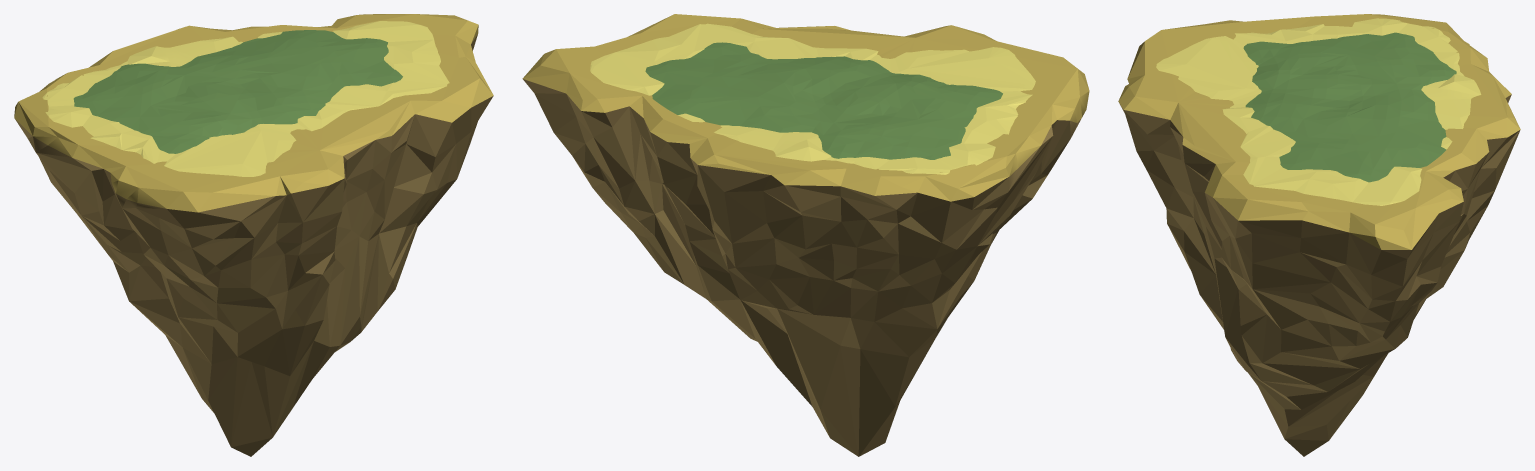
File: Treasure_Island.fbx
3 views of the same model, side by side, from view 1: azimuth 30°, elevation 25°; view 2: azimuth 150°, elevation 25°; view 3: azimuth 270°, elevation 25° (orthographic). The views are drawn at different scales.
Visible parts, largest first — view 1: TIsland_Body, TIsland_Grass, TIsland_Sand; view 2: TIsland_Body, TIsland_Grass, TIsland_Sand; view 3: TIsland_Body, TIsland_Grass, TIsland_Sand.
Part boxes in pixels (x1,y1,x2,y2): TIsland_Body: [14, 14, 493, 456]; TIsland_Grass: [73, 30, 402, 153]; TIsland_Sand: [42, 21, 449, 176]; TIsland_Body: [522, 14, 1089, 456]; TIsland_Grass: [645, 42, 1002, 159]; TIsland_Sand: [590, 23, 1035, 174]; TIsland_Body: [1118, 14, 1520, 456]; TIsland_Grass: [1243, 32, 1456, 182]; TIsland_Sand: [1156, 18, 1481, 205].
Size of the model in its own units: 546 by 418 by 417.
